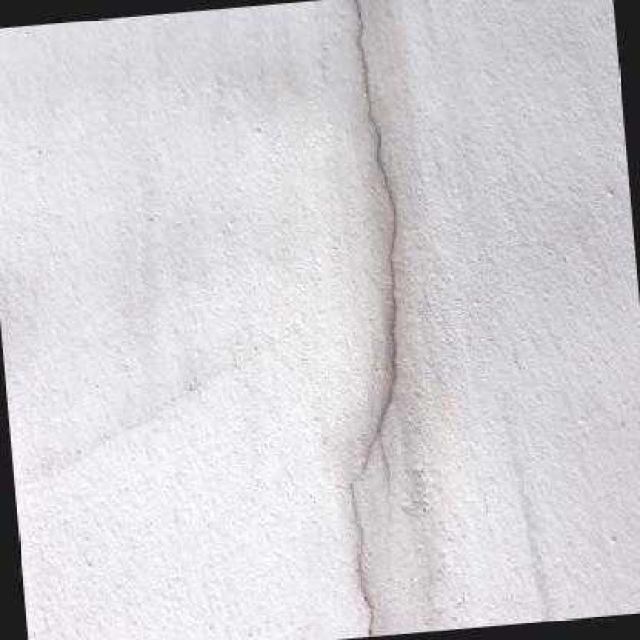D00: (346, 0, 399, 637)
